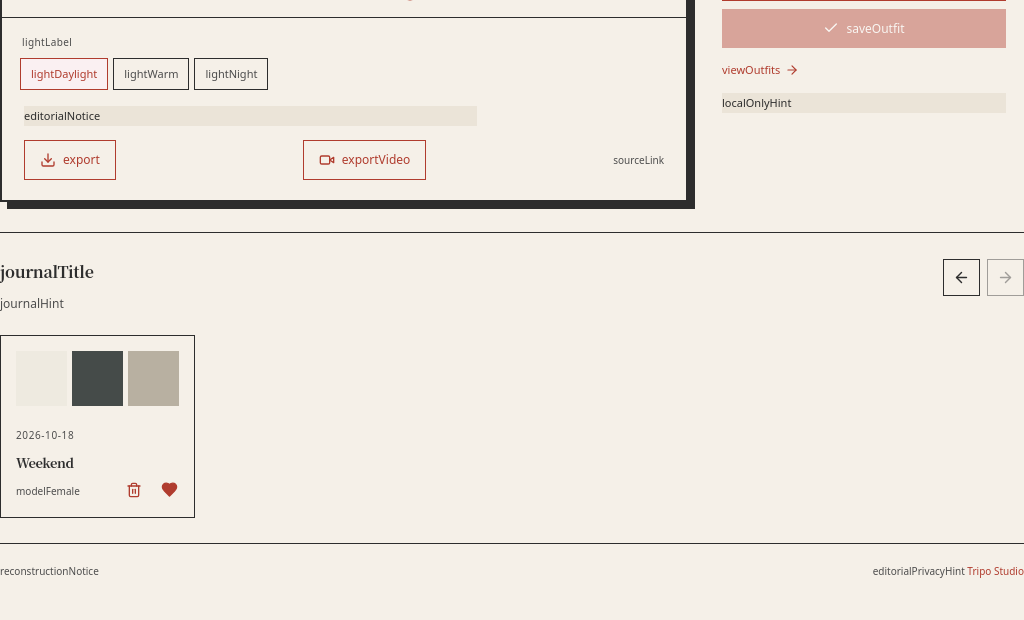
Test: 3D avatar workspace › closes an unconfirmed deletion when the active account changes
(page scrolled)
Click the button named "deleteLook Weekend". click: point(134, 490)
box: 119,475 -> 149,505
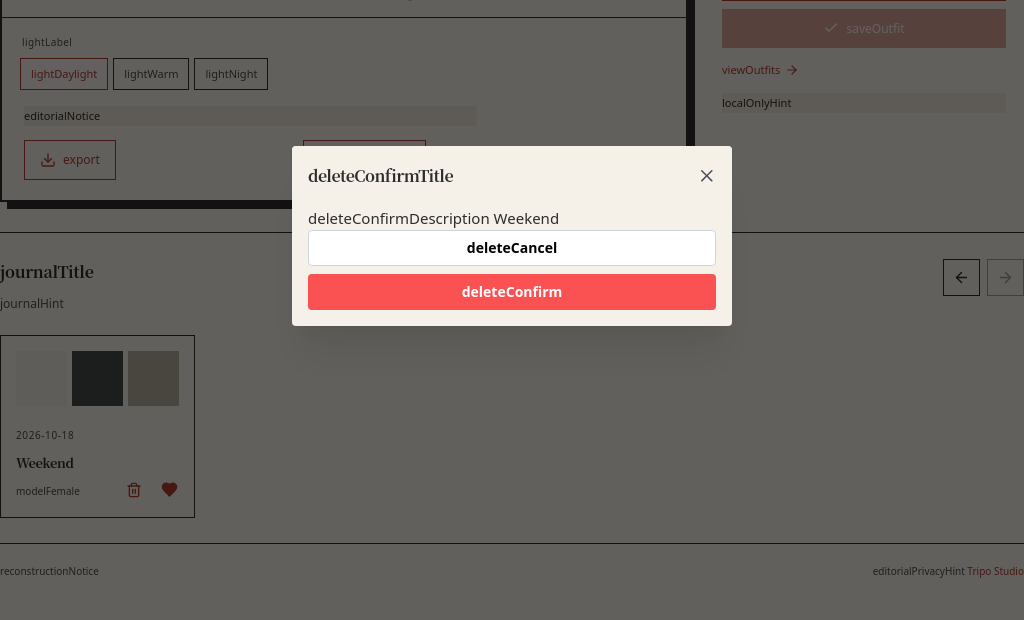
Check: the dialog is shown, box 292,146 -> 732,326
